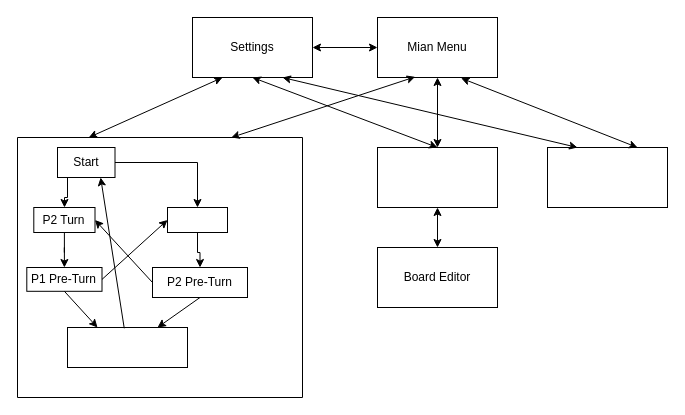
Image size: 685x415. Some labels were removed from this diagram. Here are the shapes that lost their labels. From the top down, the centre of each, then its label:
the point at 437,177: Sim
the point at 607,177: 1 Player
the point at 197,219: P1 Turn
the point at 127,347: Game Over
